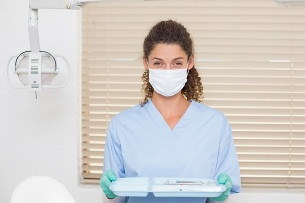Mask: (148, 54, 188, 94)
